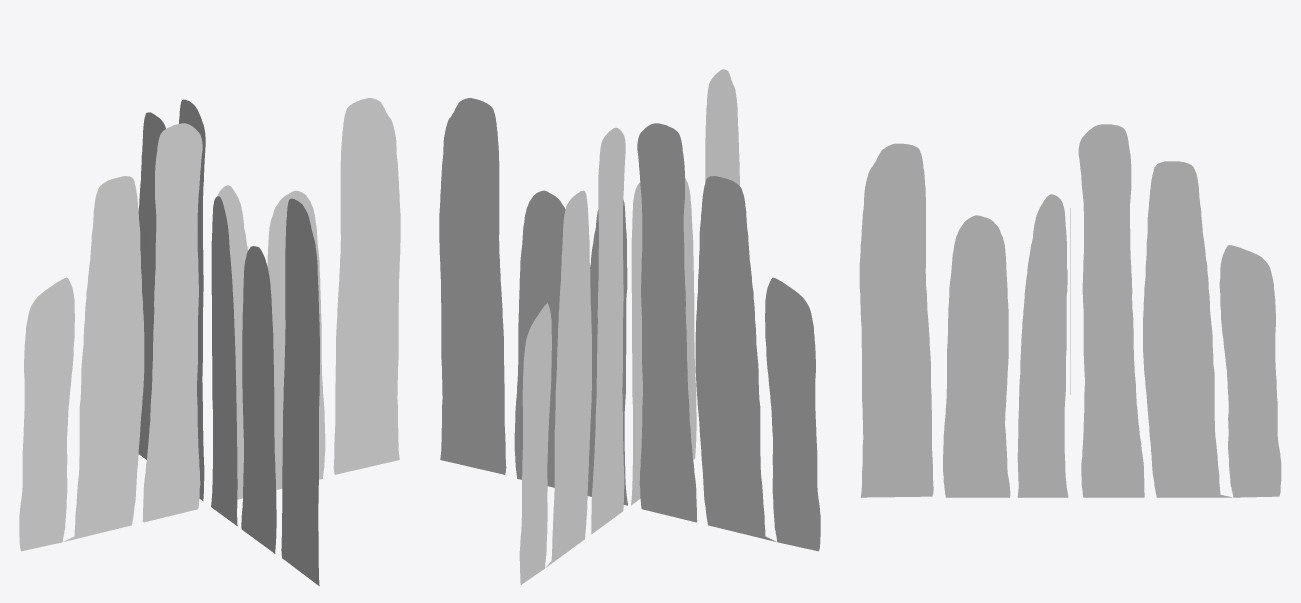
Rendered from Grass.fbx.
3 renders of one model, left to right at view 1: azimuth 30°, elevation 25°; view 2: azimuth 150°, elevation 25°; view 3: azimuth 270°, elevation 25°, orthographic. The views are drawn at different scales.
Parts seen in each view (by area): view 1: Plane; view 2: Plane; view 3: Plane.
Boxes of the visible parts, x1,y1,x2,y2 form: Plane: (19, 98, 400, 586); Plane: (439, 69, 820, 584); Plane: (859, 124, 1281, 497).
Bounding box in the file's own units: 200 × 200 × 200.
